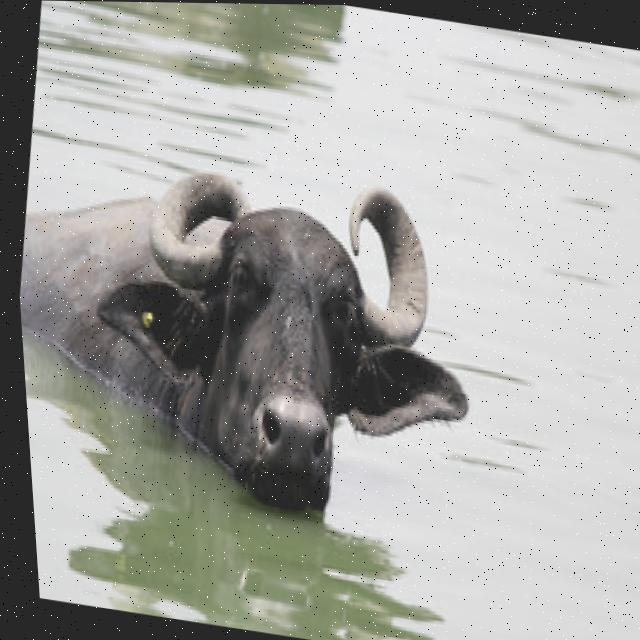Buffalo: (8, 127, 507, 541)
